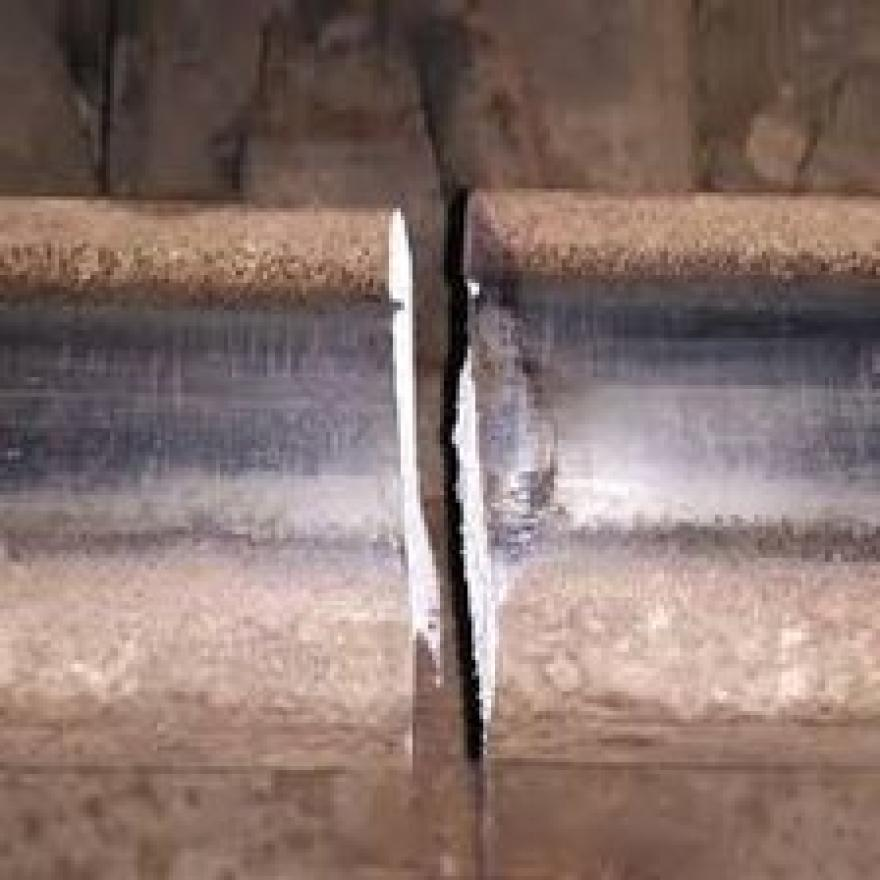railway-gap: (106, 182, 768, 773)
